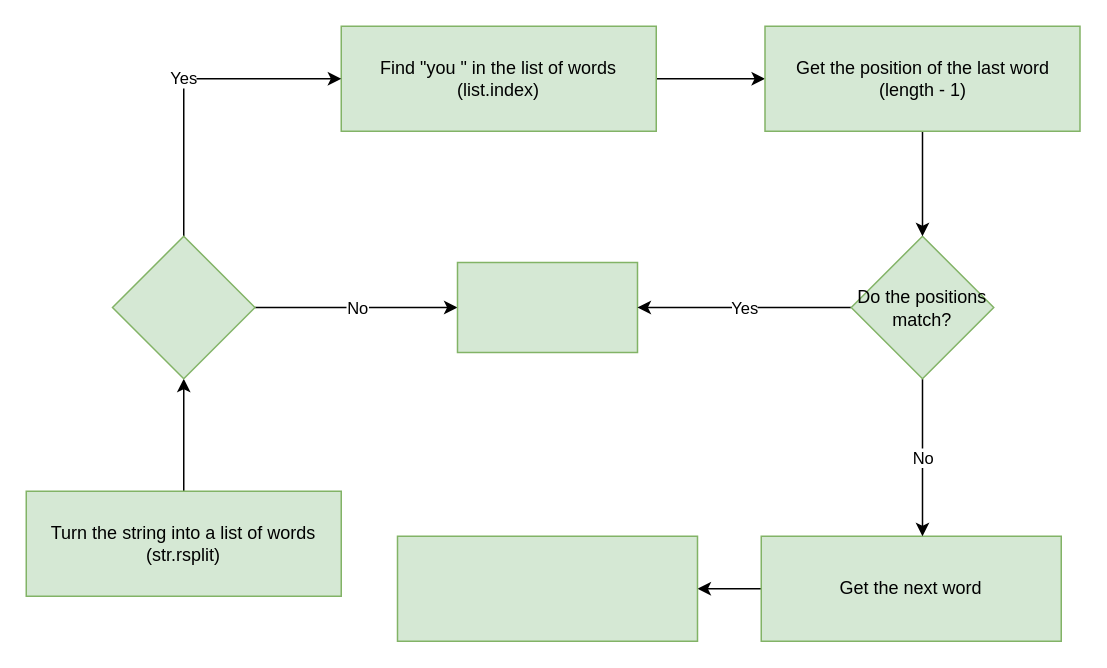
Image size: 1107x668. Some labels were removed from this diagram. The centre of each missing label's shape, as x and y in pixels:
Is "you" in the list?: (x=183, y=307)
Return None: (x=547, y=306)
Return that word after: (x=547, y=588)
